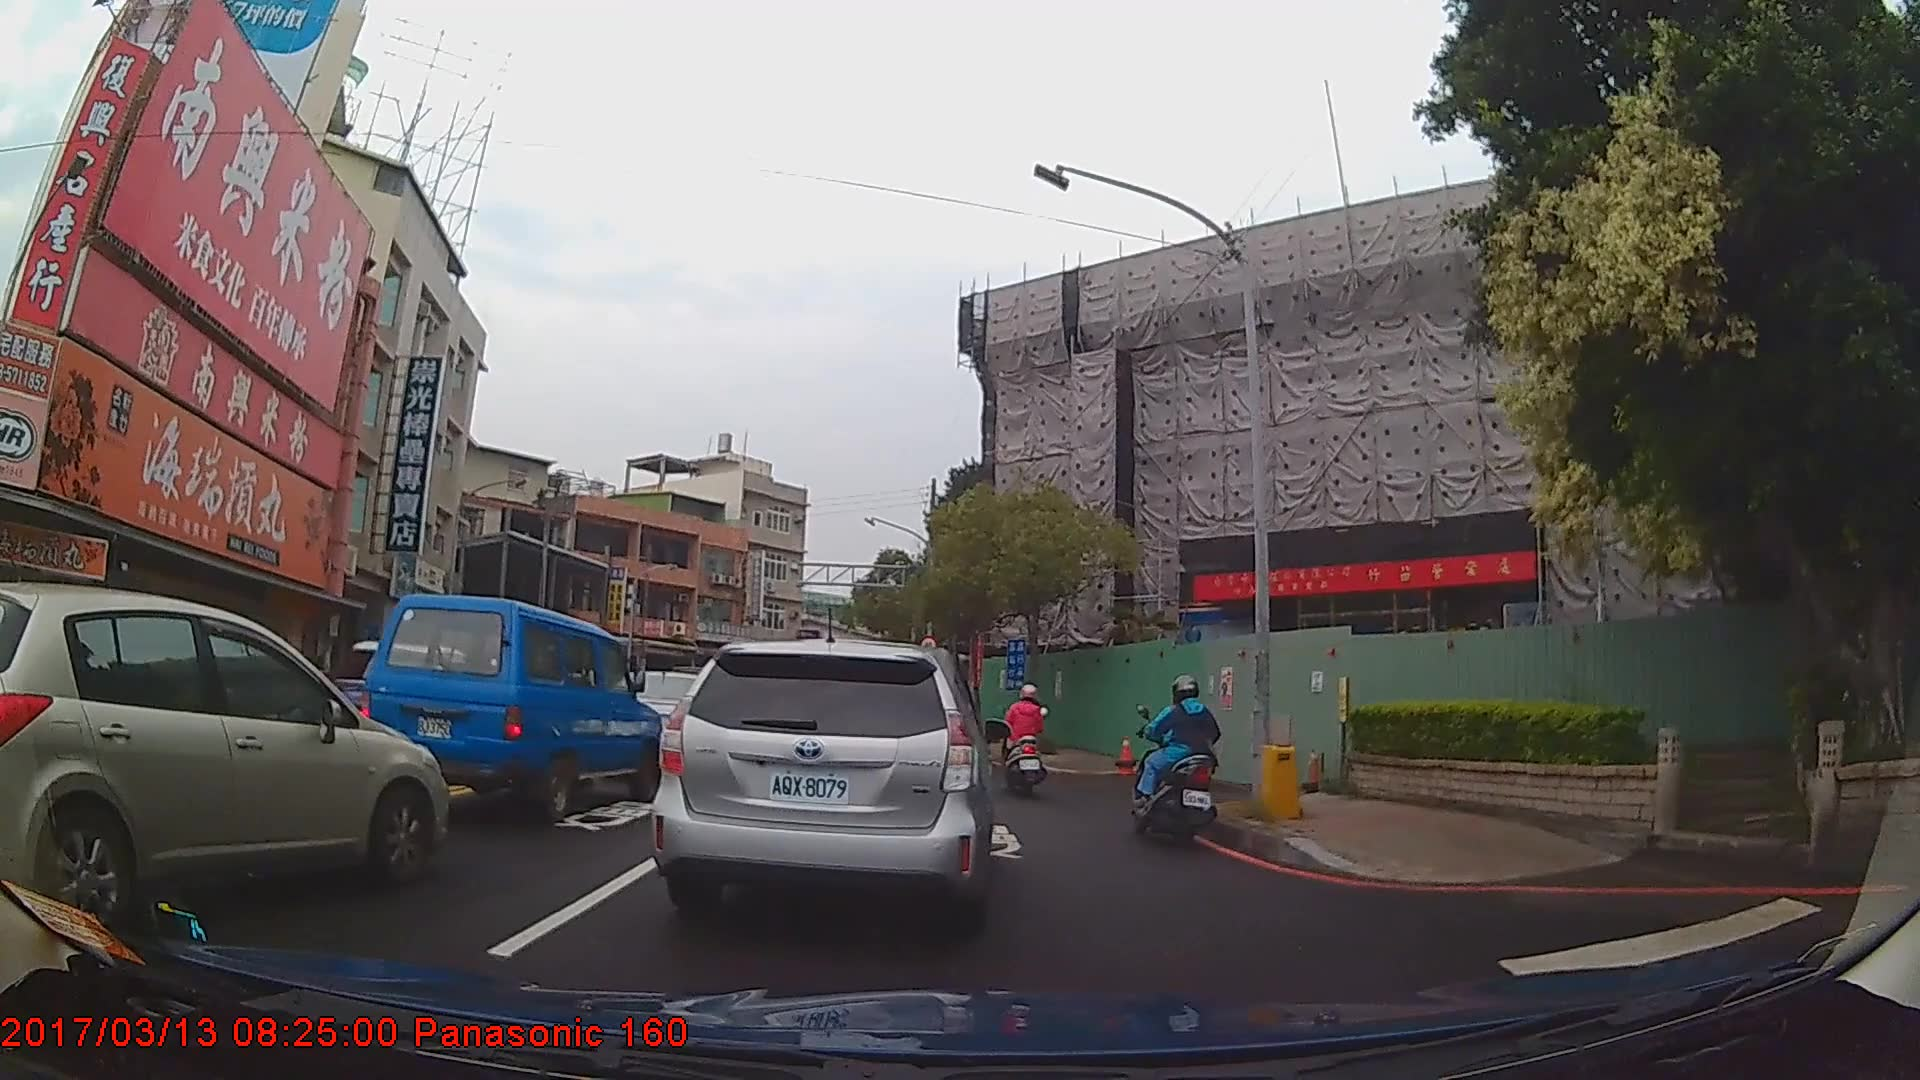rider: (1137, 676, 1226, 851), (999, 685, 1054, 797)
vehicle: (0, 581, 449, 939), (647, 636, 997, 940), (358, 592, 662, 820)
